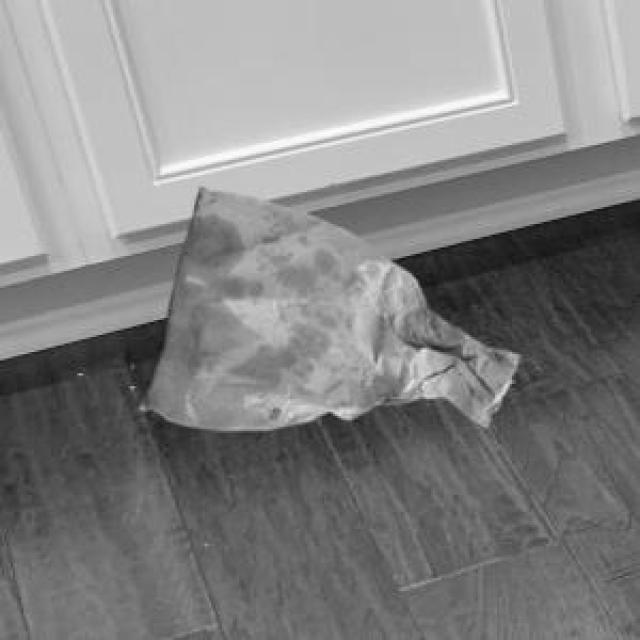paper: (137, 184, 514, 427)
